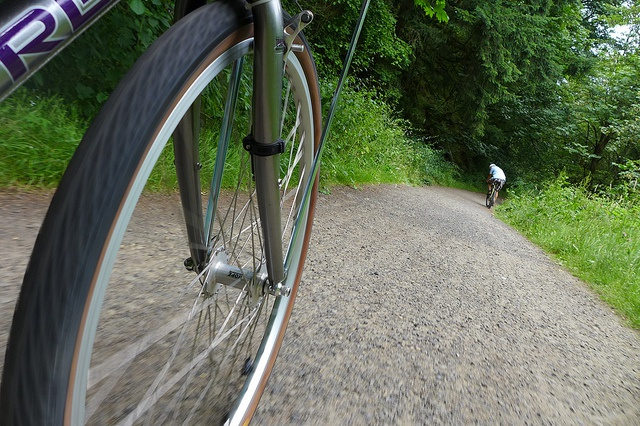non-vehicle: (1, 0, 335, 421), (484, 179, 500, 209)
